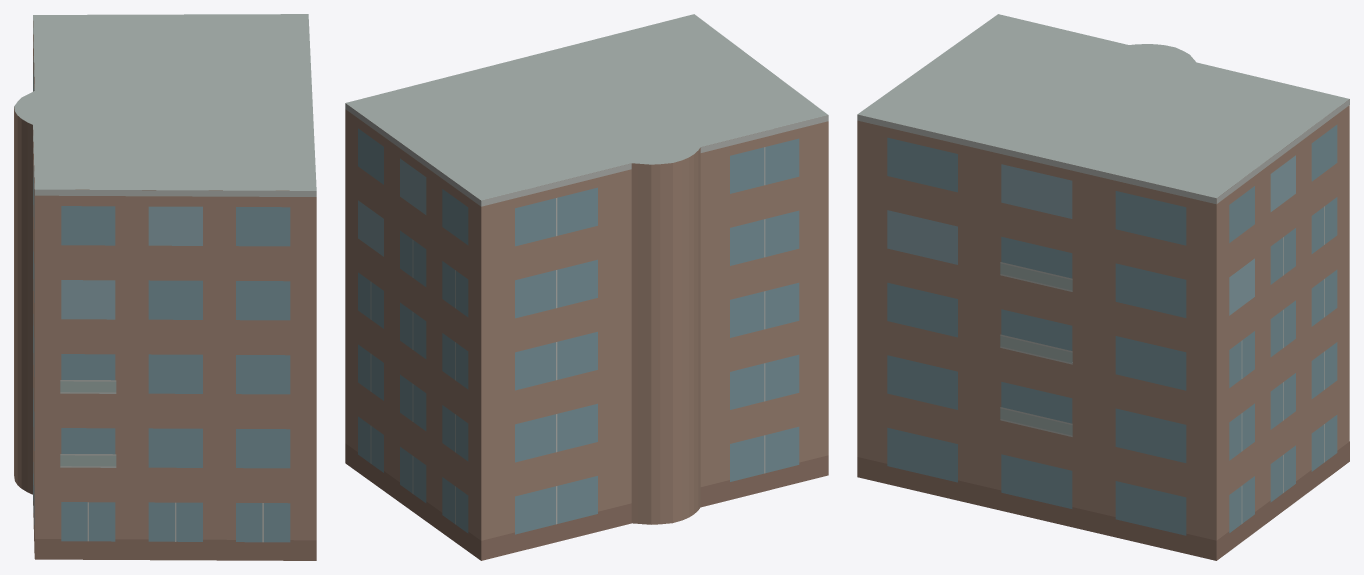
Rendered from survey-upis-32989828.glb.
3 renders of one model, left to right at view 1: azimuth 30°, elevation 25°; view 2: azimuth 150°, elevation 25°; view 3: azimuth 270°, elevation 25°, orthographic. The views are drawn at different scales.
Visible parts, largest first — view 1: survey-upis-32989828.tmp; view 2: survey-upis-32989828.tmp; view 3: survey-upis-32989828.tmp.
Part boxes in pixels (x1,y1,x2,y2): survey-upis-32989828.tmp: (14, 14, 316, 560); survey-upis-32989828.tmp: (345, 14, 828, 560); survey-upis-32989828.tmp: (857, 14, 1349, 560).
Size of the model in its own units: 15.92 by 14.6 by 17.98.
